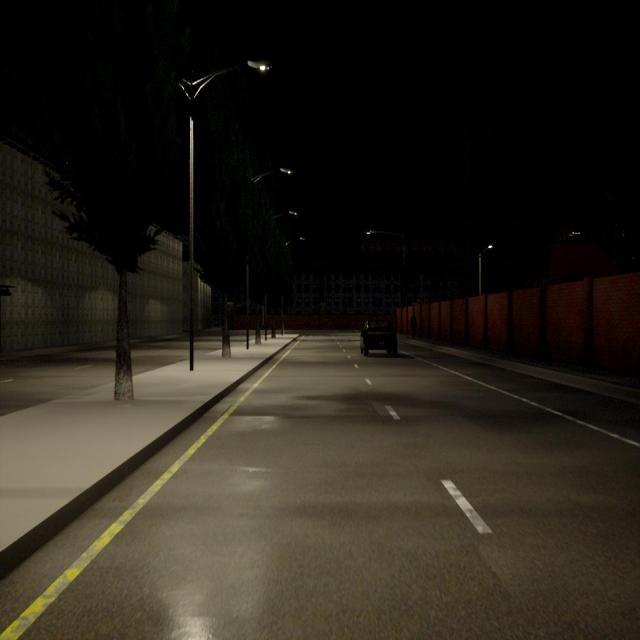Pedestrian: (411, 314, 416, 339)
Vehicle: (361, 320, 397, 356)
